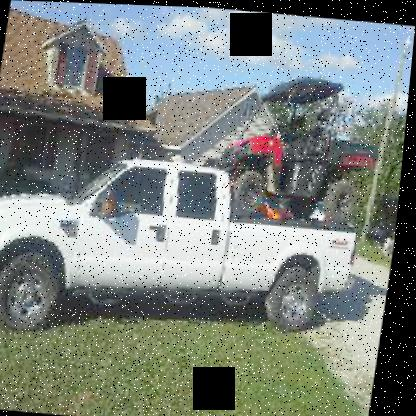not_emergency: (0, 119, 406, 369)
